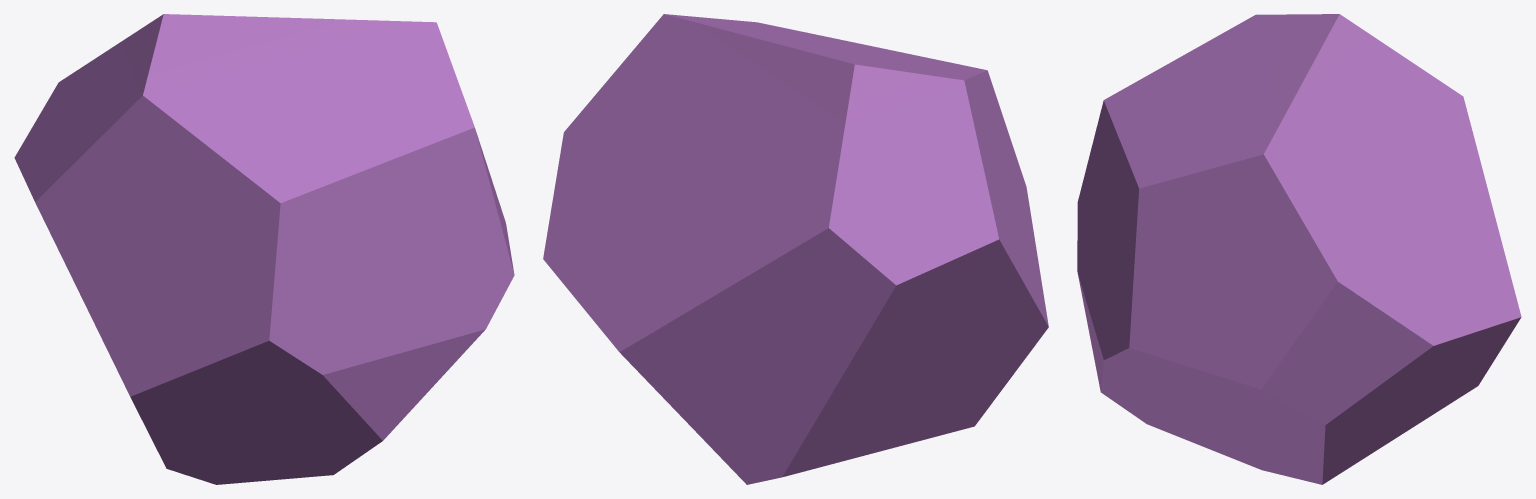
File: CaveRock1.fbx
The picture shows the model from 3 angles, left to right: view 1: azimuth 30°, elevation 25°; view 2: azimuth 150°, elevation 25°; view 3: azimuth 270°, elevation 25°; orthographic projection. The views are drawn at different scales.
Parts seen in each view (by area): view 1: Sphere.002; view 2: Sphere.002; view 3: Sphere.002.
Boxes of the visible parts, x1,y1,x2,y2 form: Sphere.002: [14, 14, 514, 484]; Sphere.002: [543, 14, 1048, 484]; Sphere.002: [1077, 14, 1521, 484].
Bounding box in the file's own units: 182 × 178 × 170.
